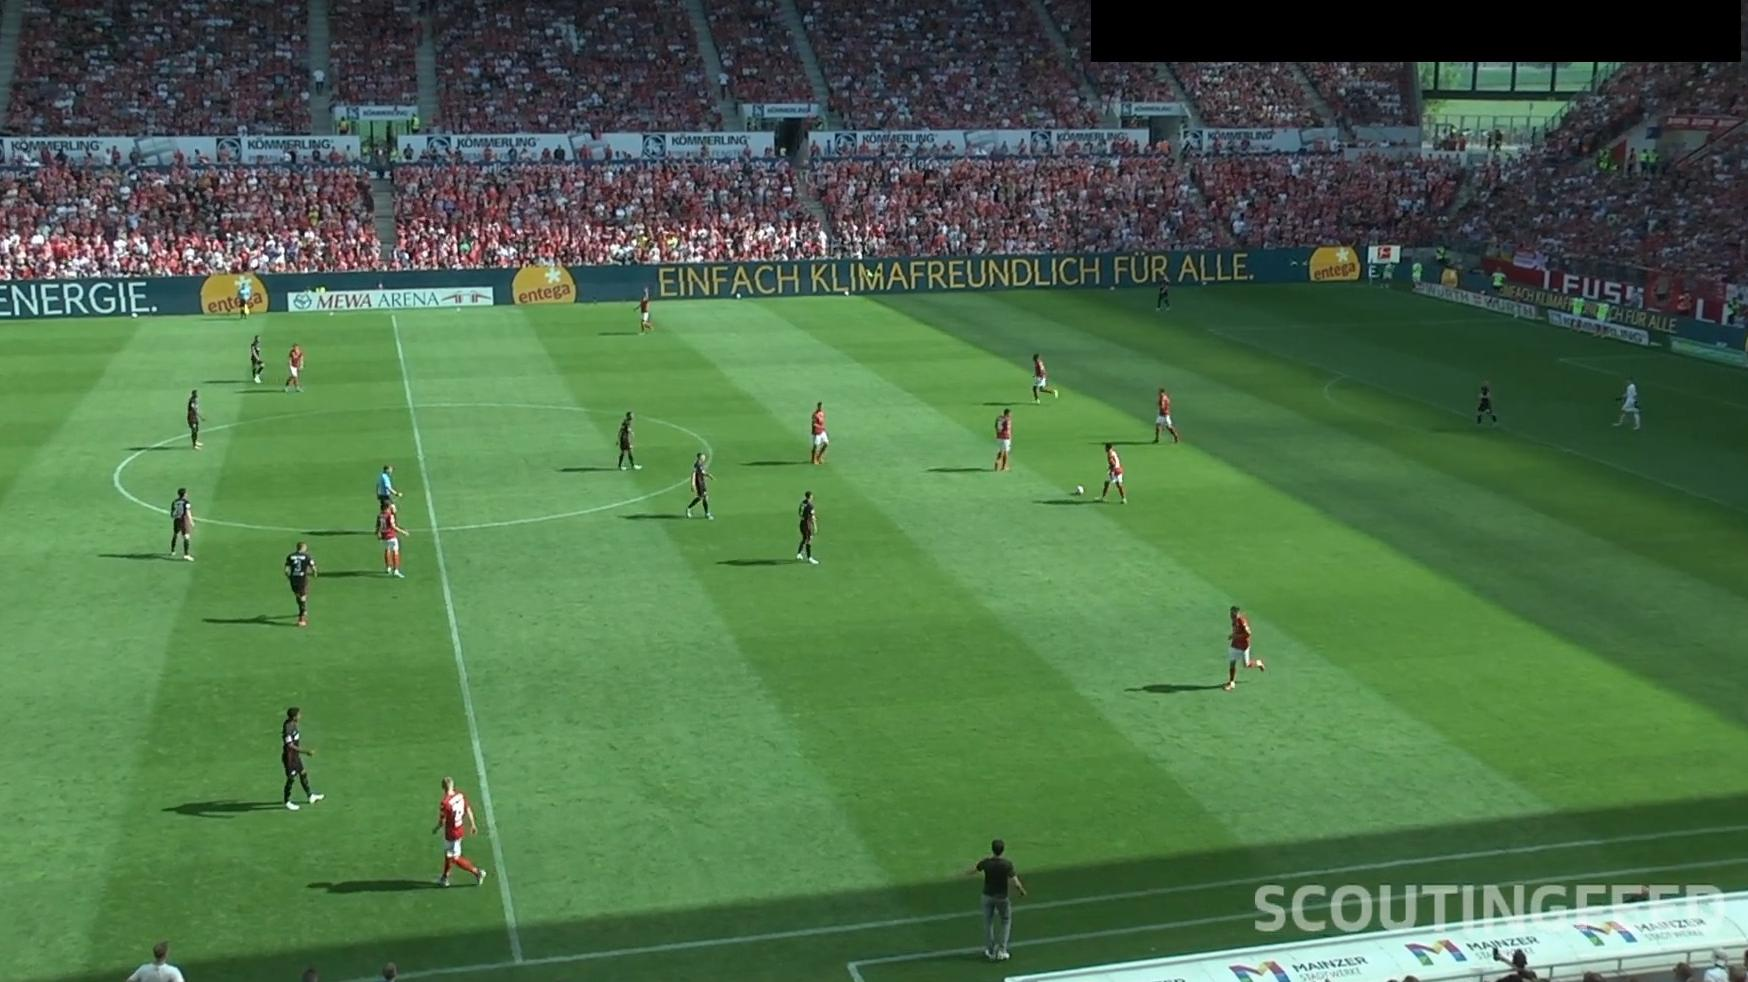ball: (1074, 485, 1085, 496)
